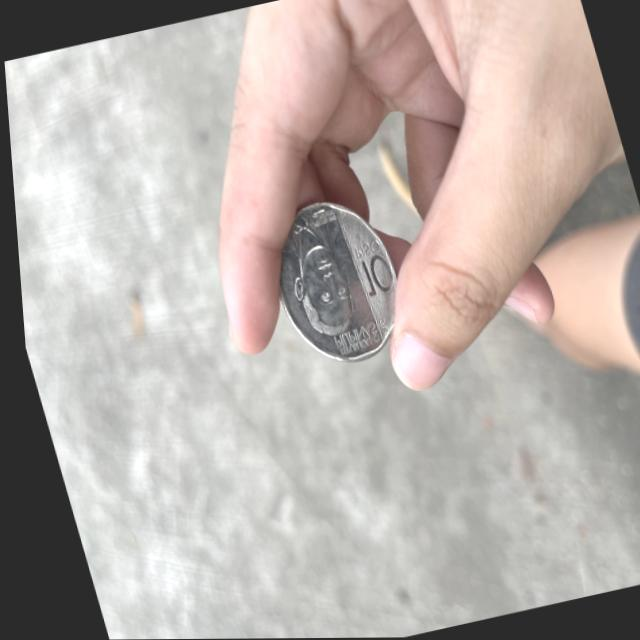10_New_Front: (338, 223, 398, 309)
